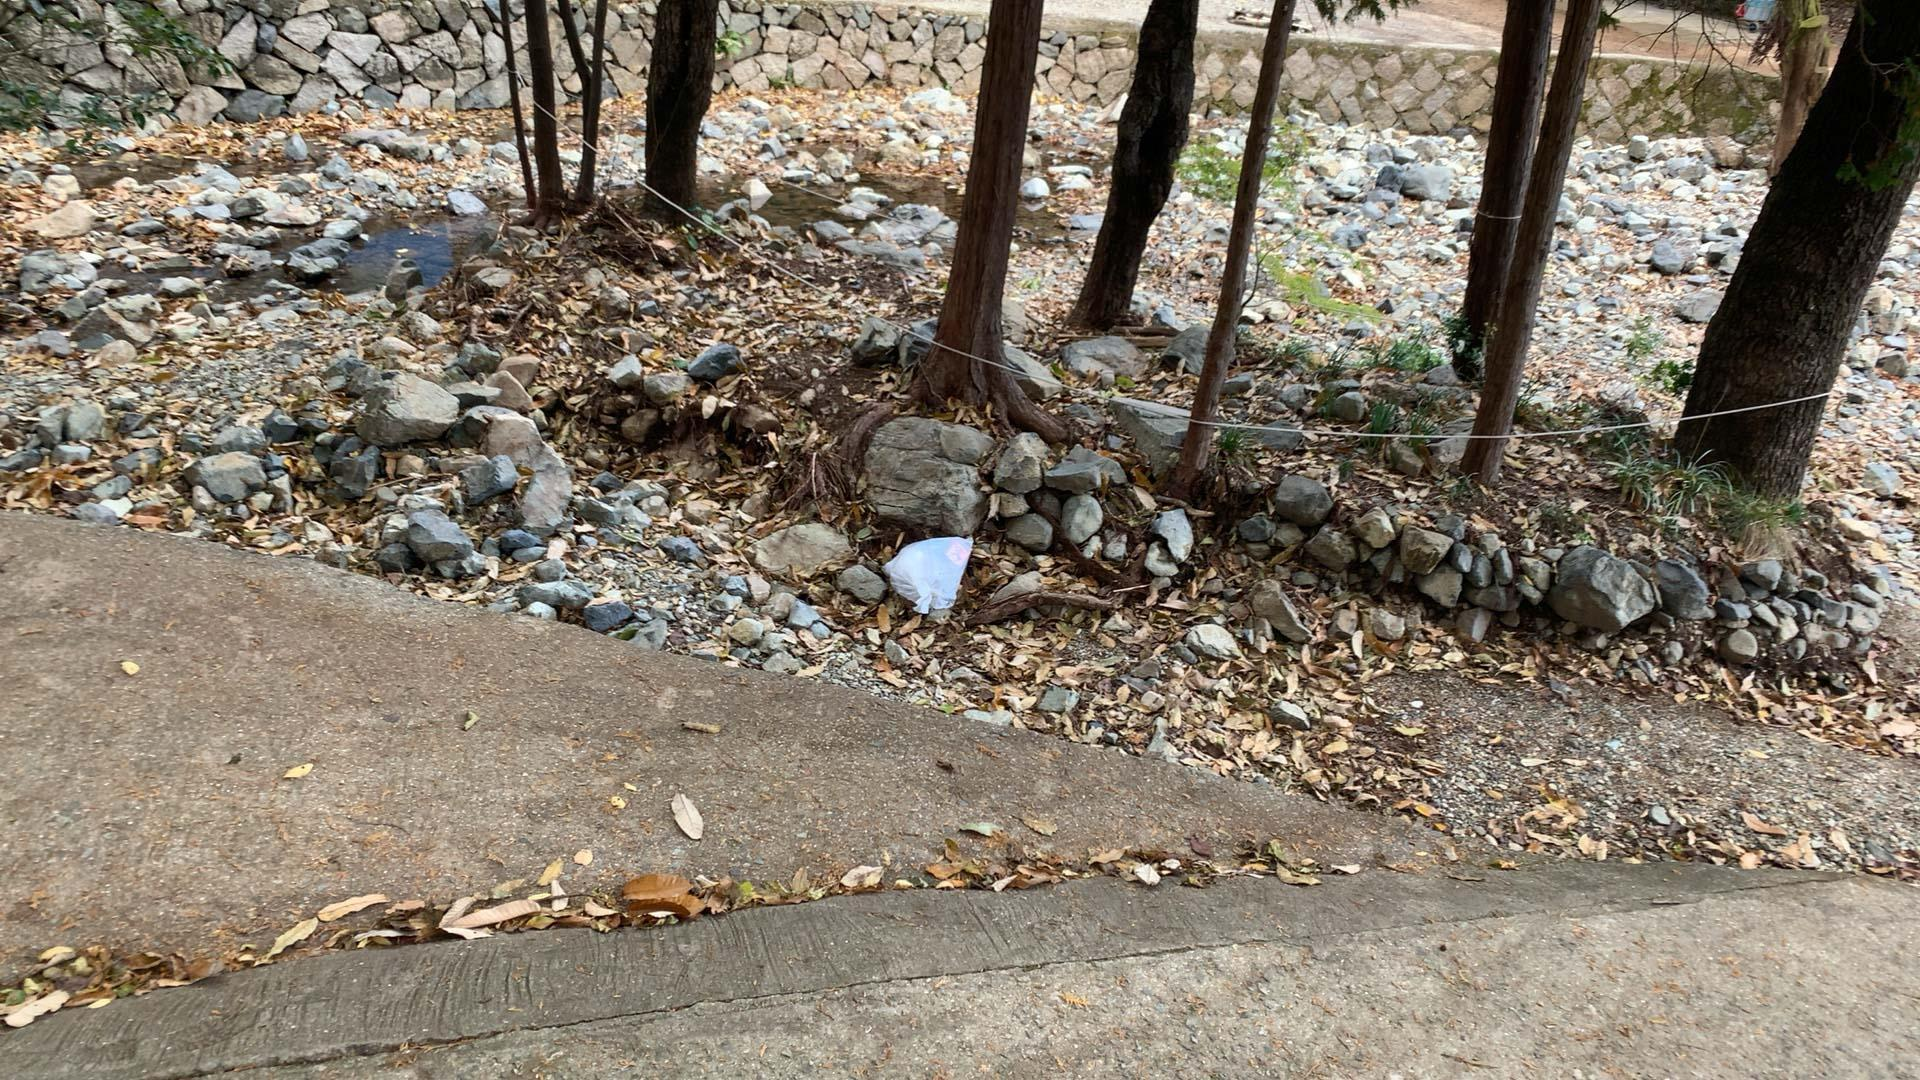white_bag: (878, 529, 978, 616)
